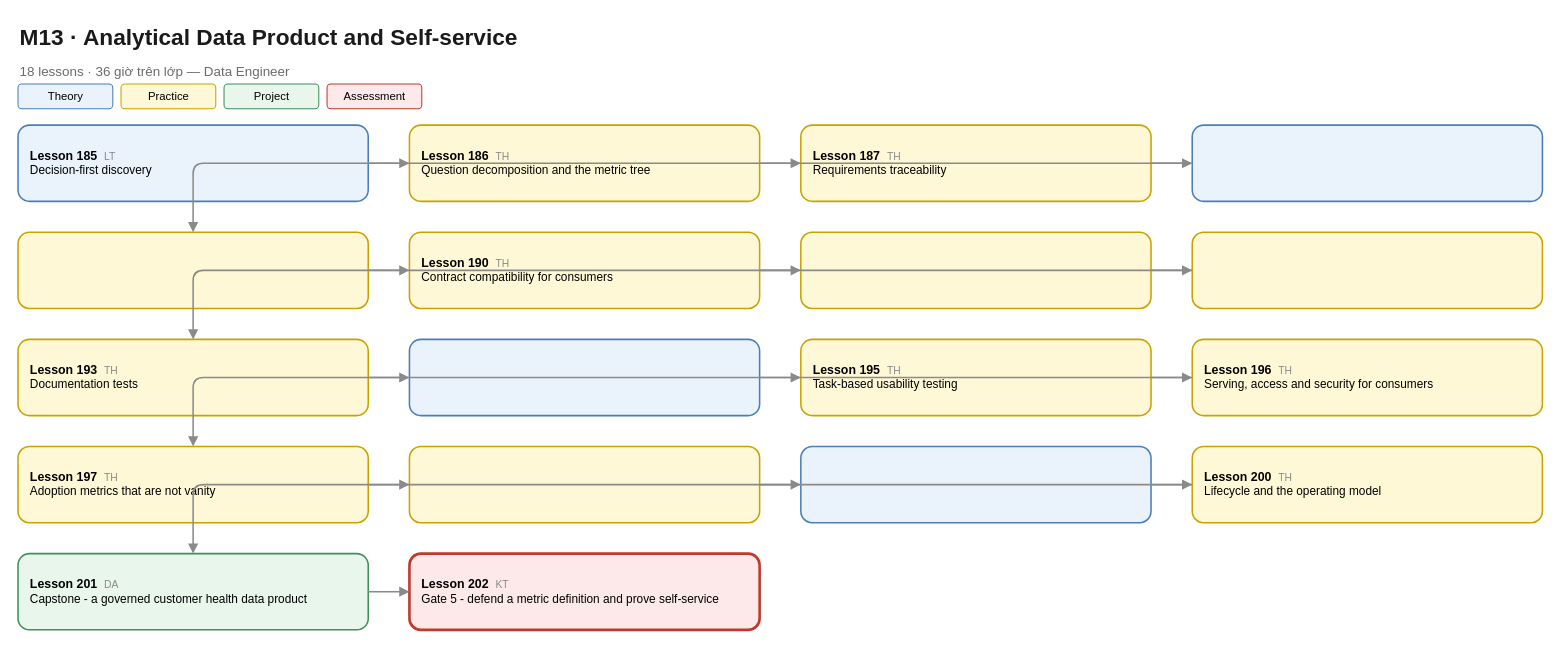
Some shapes in this 1561 by 649 pixel diagram are drawn without their labels. Each missing label, with the box of its shape:
Lesson 188 LT Product anatomy - what makes a dataset a product: (1191, 124, 1543, 202)
Lesson 189 TH Interface design for an analytical product: (17, 231, 369, 309)
Lesson 191 TH The documentation hierarchy: (800, 231, 1151, 309)
Lesson 192 TH Search, discovery and the findability test: (1191, 231, 1543, 309)
Lesson 194 LT Self-service UX and the enablement boundary: (408, 338, 760, 416)
Lesson 198 TH Cost to serve: (408, 445, 760, 523)
Lesson 199 LT Reverse ETL and the shadow operational system: (800, 445, 1151, 523)
